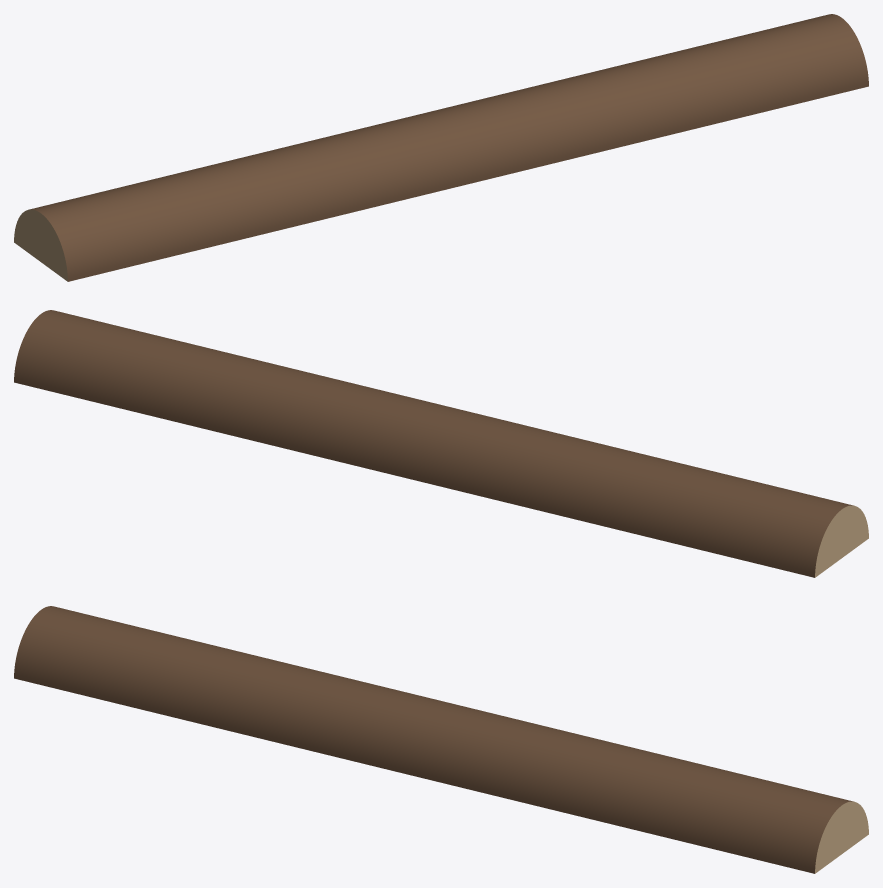
The model's file is SM_RawLog_300_Half.fbx.
The picture shows the model from 3 angles, top to bottom: view 1: azimuth 30°, elevation 25°; view 2: azimuth 150°, elevation 25°; view 3: azimuth 330°, elevation 25°; orthographic projection.
Parts seen in each view (by area): view 1: RawLog_300_Half; view 2: RawLog_300_Half; view 3: RawLog_300_Half.
Boxes of the visible parts, x1,y1,x2,y2 form: RawLog_300_Half: (14,14,868,281); RawLog_300_Half: (14,310,868,577); RawLog_300_Half: (14,606,868,873).
Size of what is drawn, in the model's own units: 3 by 0.175 by 0.35.
